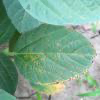Tomato Septoria leaf spot: (12, 25, 99, 85)
